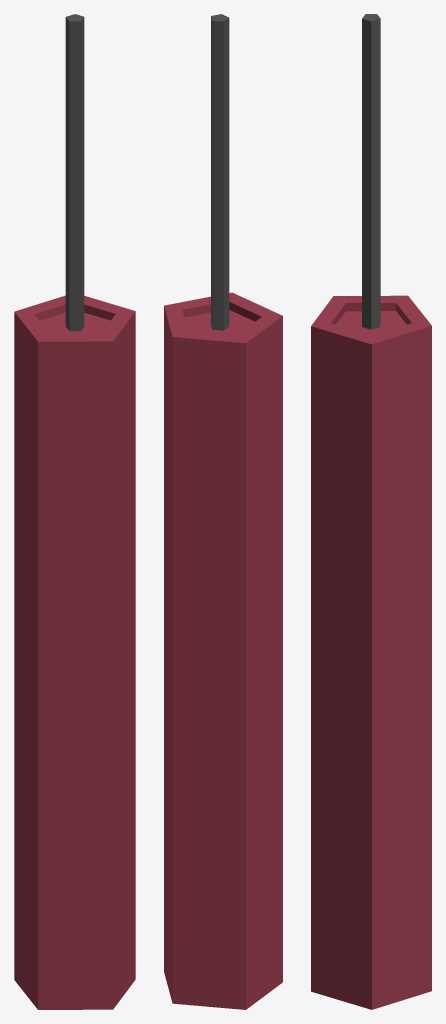
Rendered from Dynamite A-col.glb.
3 views of the same model, side by side, from view 1: azimuth 90°, elevation 25°; view 2: azimuth 150°, elevation 25°; view 3: azimuth 270°, elevation 25° (orthographic).
Visible parts, largest first — view 1: Dynamite A-col; view 2: Dynamite A-col; view 3: Dynamite A-col.
Part boxes in pixels (bbox=[...]): Dynamite A-col: bbox=[14, 14, 135, 1009]; Dynamite A-col: bbox=[164, 14, 282, 1009]; Dynamite A-col: bbox=[311, 14, 431, 1009].
Bounding box in the file's own units: 0.0522 × 0.4818 × 0.0547.
